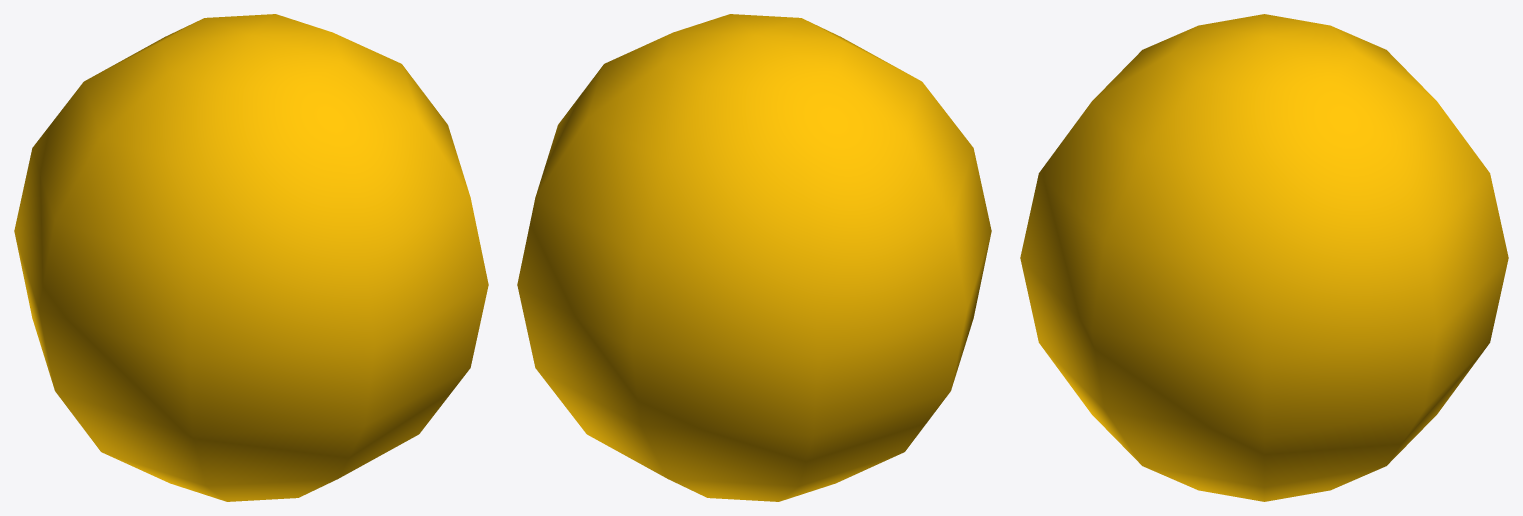
Rendered from section_5.glb.
The picture shows the model from 3 angles, left to right: view 1: azimuth 30°, elevation 25°; view 2: azimuth 150°, elevation 25°; view 3: azimuth 270°, elevation 25°; orthographic projection.
Visible parts, largest first — view 1: BG; view 2: BG; view 3: BG.
Part boxes in pixels (<box>): BG: <box>14,14,488,501</box>; BG: <box>517,14,991,501</box>; BG: <box>1020,14,1508,501</box>.
Size of the model in its own units: 77.59 by 77.59 by 77.59.
